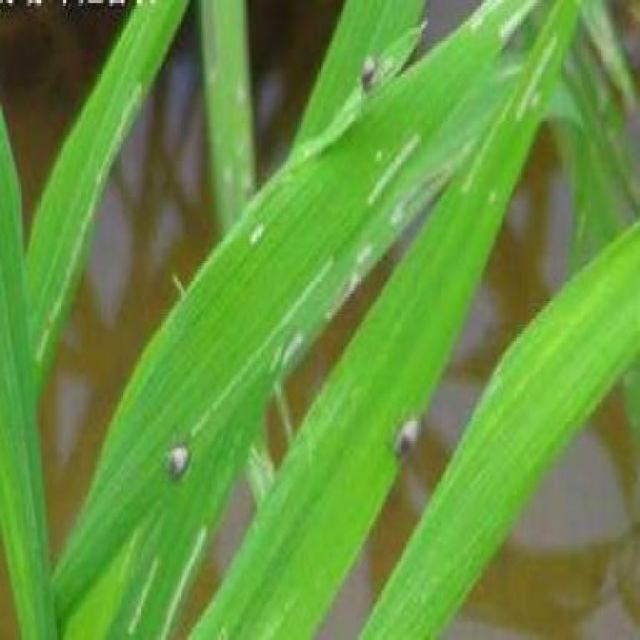rice-bug: (392, 408, 422, 464), (165, 429, 192, 482), (360, 52, 378, 92)
